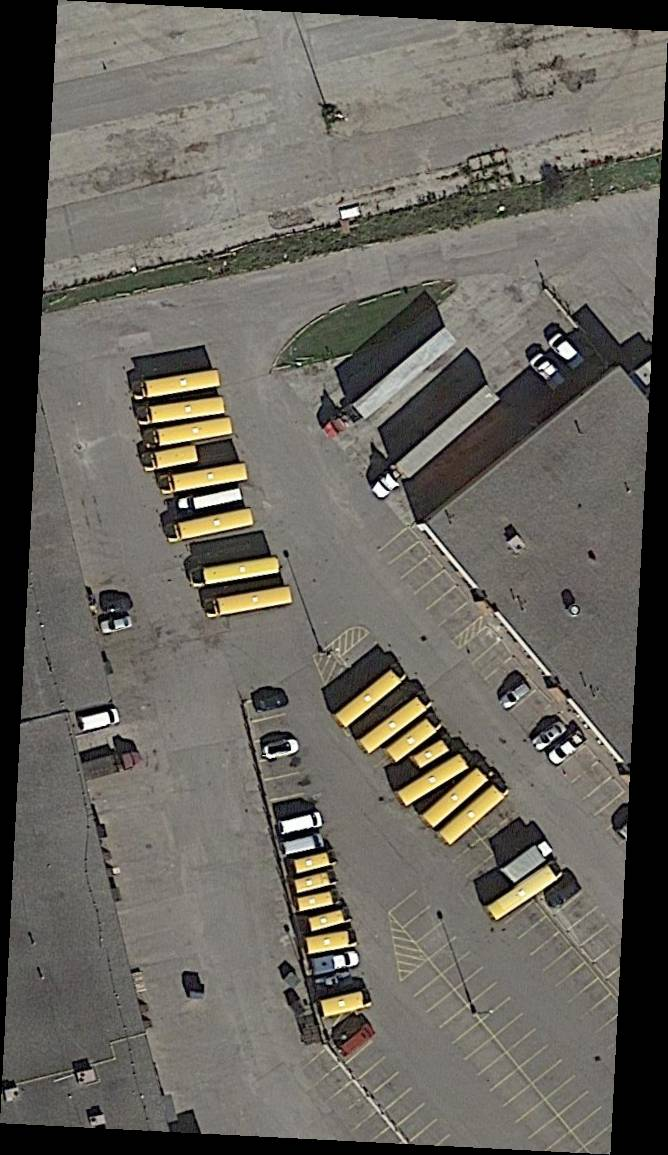large vehicle: (322, 327, 457, 442), (371, 384, 501, 501), (484, 859, 564, 921), (421, 762, 495, 829), (334, 663, 409, 729), (439, 780, 511, 847), (359, 692, 433, 755), (397, 751, 474, 808), (166, 507, 255, 544), (204, 585, 294, 620), (159, 461, 249, 496), (145, 416, 234, 451), (190, 556, 281, 589), (132, 368, 222, 401), (499, 834, 556, 884), (386, 714, 443, 763), (137, 397, 226, 427), (176, 486, 245, 515), (318, 985, 374, 1020), (304, 926, 360, 955), (142, 445, 199, 473), (309, 905, 354, 933), (295, 886, 342, 912), (290, 850, 339, 874), (292, 870, 340, 894)
small vehicle: (545, 726, 591, 770), (546, 330, 589, 374), (525, 350, 568, 393), (528, 717, 569, 755), (336, 1022, 376, 1059), (77, 705, 124, 735), (544, 875, 584, 910), (311, 948, 360, 976), (279, 831, 327, 858), (276, 808, 324, 835), (496, 679, 533, 714), (259, 735, 302, 764), (251, 691, 290, 716), (98, 614, 135, 636), (101, 595, 137, 617)
